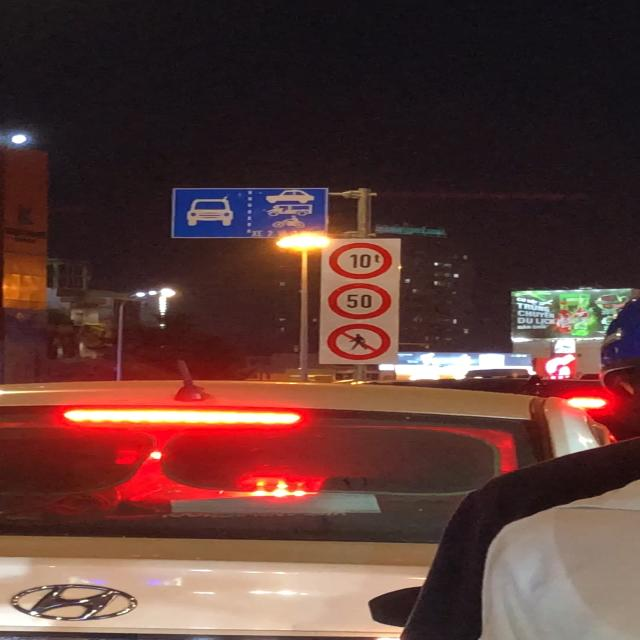Bien bao cam nguoi di bo: (325, 322, 390, 362)
Bien bao toc do toi da cho phep: (322, 281, 392, 320)
